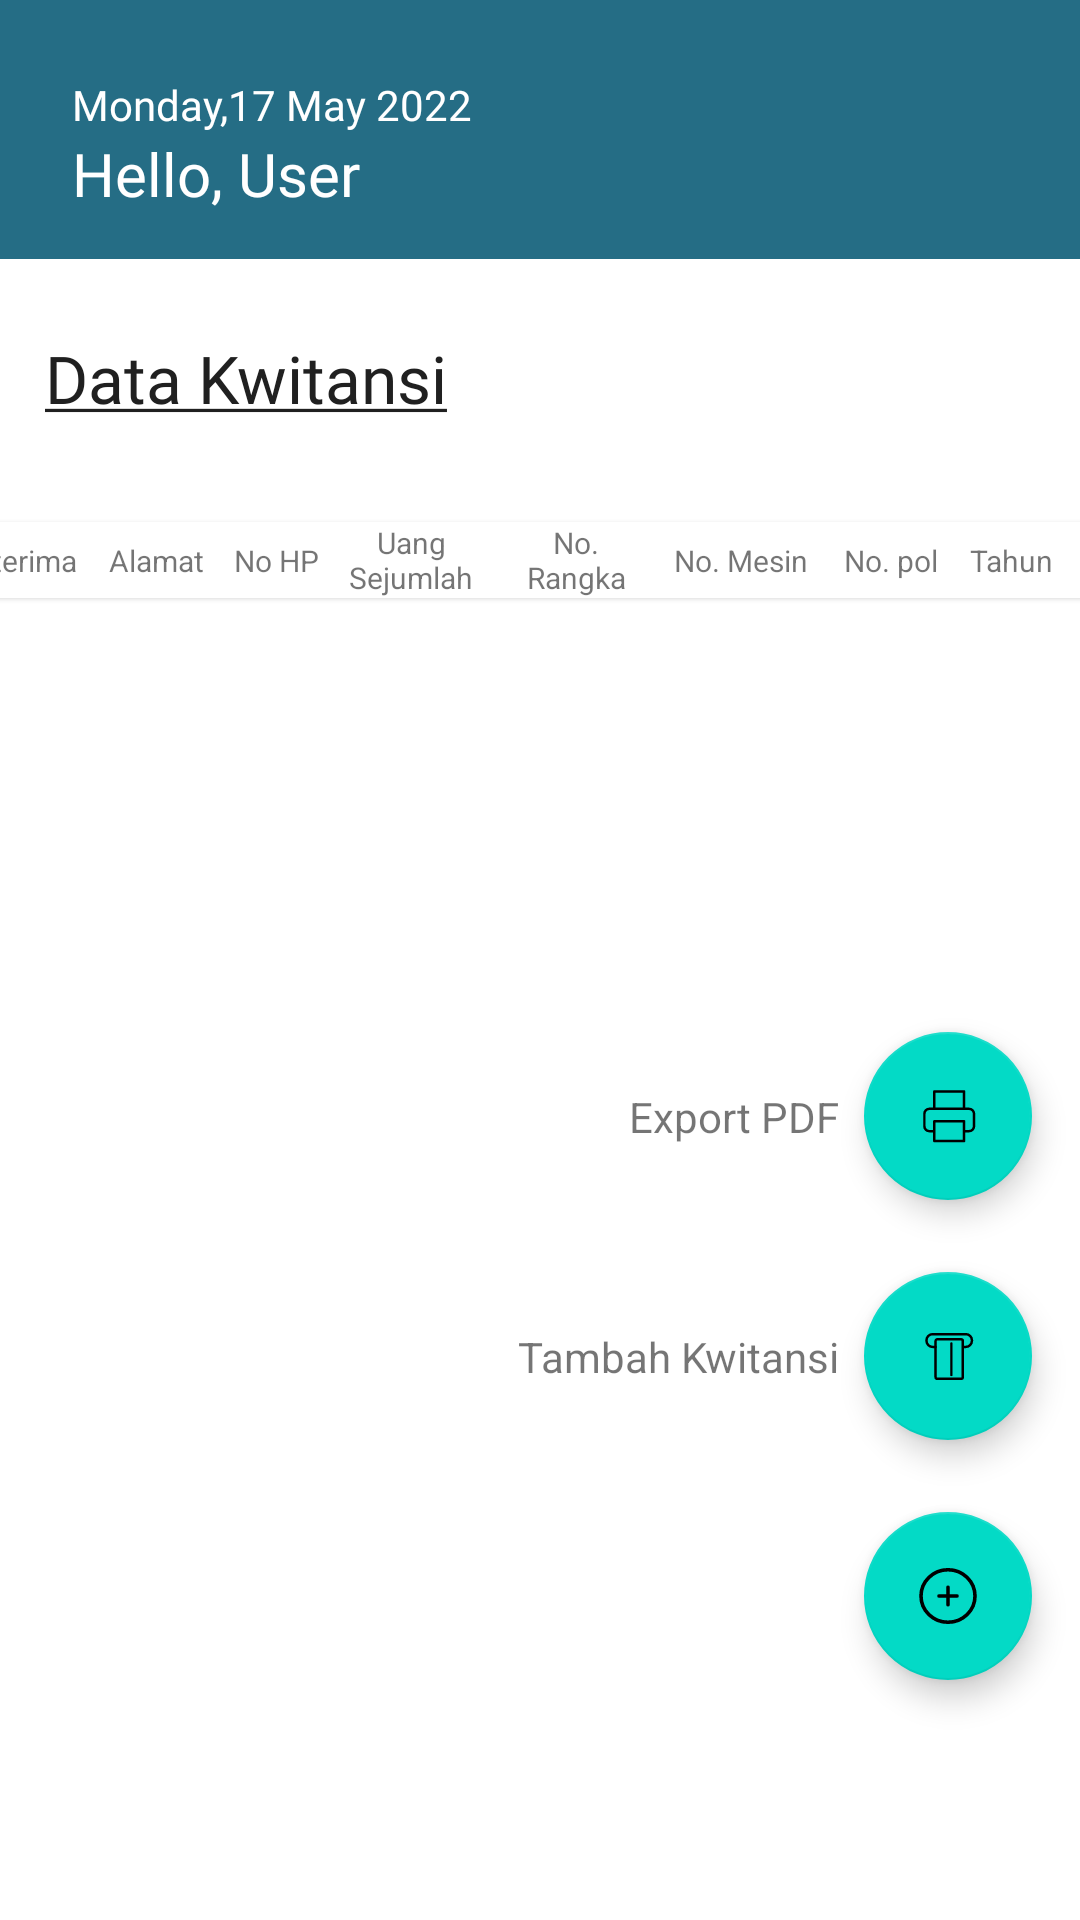

Screen size 1080x1920. Icon name, then its box in pixels as (x1, y1, x2, y2):
plus: (864, 1512, 1032, 1680)
